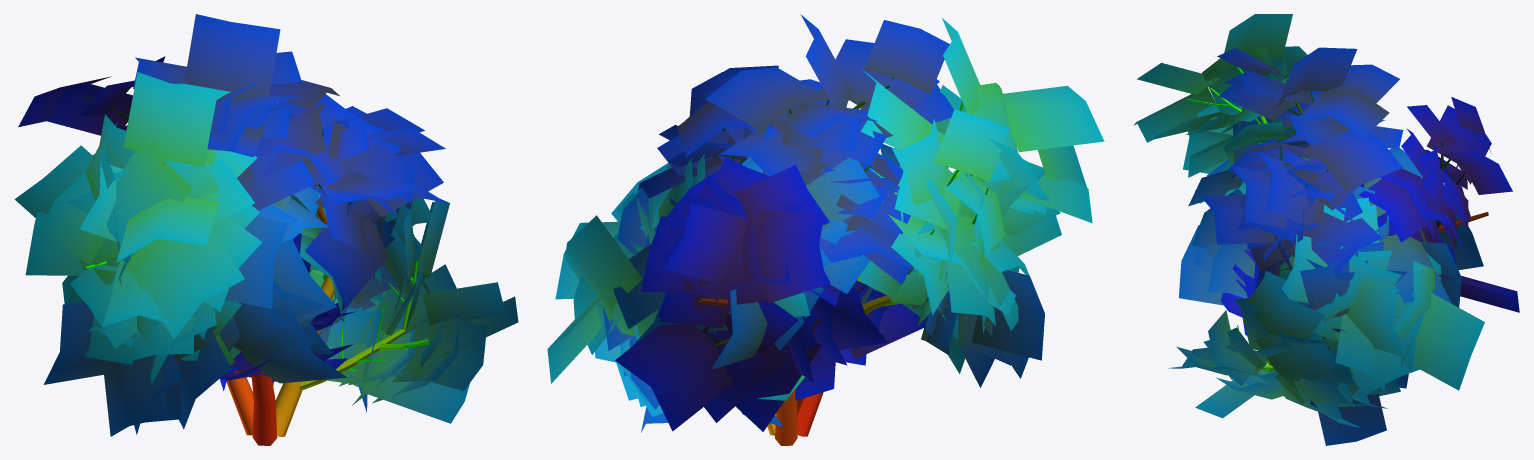
File: SM_Bush_Hawthorn_B.fbx
3 views of the same model, side by side, from view 1: azimuth 30°, elevation 25°; view 2: azimuth 150°, elevation 25°; view 3: azimuth 270°, elevation 25° (orthographic). The views are drawn at different scales.
Parts seen in each view (by area): view 1: SM_Bush_Hawthorn_B; view 2: SM_Bush_Hawthorn_B; view 3: SM_Bush_Hawthorn_B.
Boxes of the visible parts, x1,y1,x2,y2 form: SM_Bush_Hawthorn_B: [14, 14, 518, 445]; SM_Bush_Hawthorn_B: [547, 14, 1104, 445]; SM_Bush_Hawthorn_B: [1133, 14, 1519, 445].
Size of the model in its own units: 1.55 by 1.47 by 1.5.
